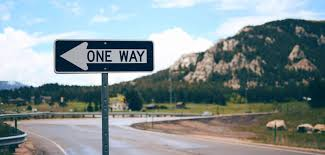oneWay: (52, 36, 157, 76)
